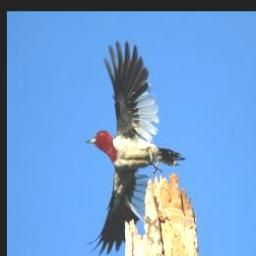Woodpecker: (85, 39, 186, 256)
